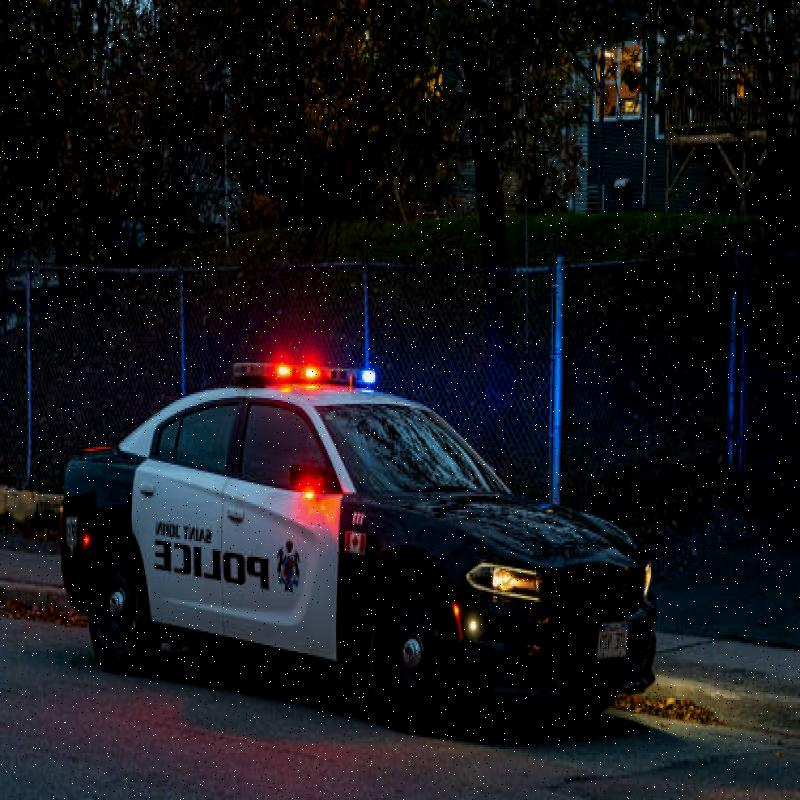AmbulanceSiren: (231, 335, 382, 400)
